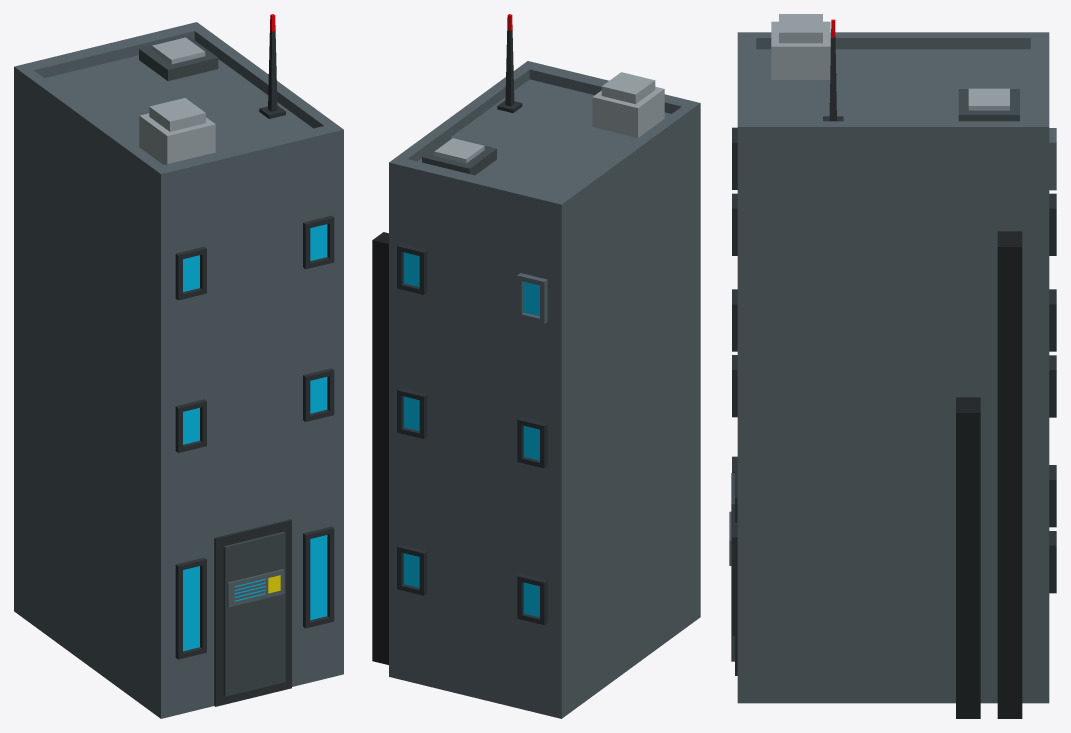
Rendered from Building 03.FBX.
3 renders of one model, left to right at view 1: azimuth 30°, elevation 25°; view 2: azimuth 150°, elevation 25°; view 3: azimuth 270°, elevation 25°, orthographic. The views are drawn at different scales.
Visible parts, largest first — view 1: Building 03, Building 03 Door; view 2: Building 03; view 3: Building 03, Building 03 Door.
Part boxes in pixels (<box>): Building 03: <box>14,14,343,718</box>; Building 03 Door: <box>214,519,291,706</box>; Building 03: <box>372,14,700,718</box>; Building 03: <box>732,14,1056,718</box>; Building 03 Door: <box>729,458,737,675</box>.
Size of the model in its own units: 287 by 816 by 361.
